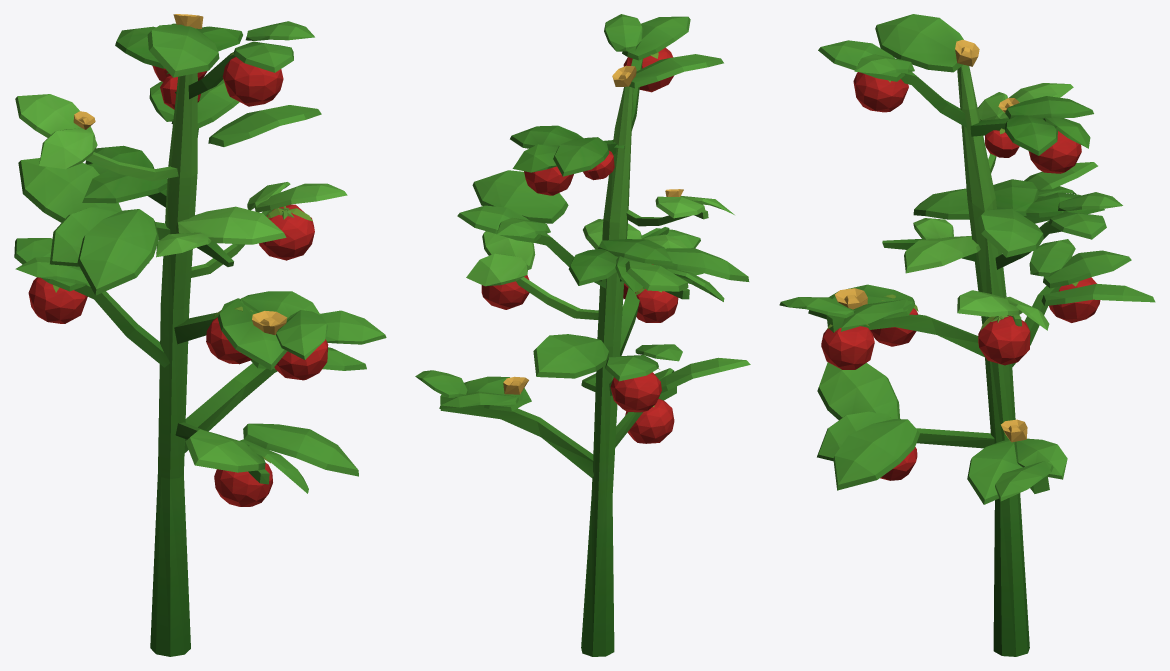
File: crop_tomato_stage3.glb
3 views of the same model, side by side, from view 1: azimuth 30°, elevation 25°; view 2: azimuth 150°, elevation 25°; view 3: azimuth 270°, elevation 25° (orthographic). The views are drawn at different scales.
Visible parts, largest first — view 1: crop_tomato_stage3; view 2: crop_tomato_stage3; view 3: crop_tomato_stage3.
Part boxes in pixels (x1=…): crop_tomato_stage3: x1=14, y1=14, x2=386, y2=656; crop_tomato_stage3: x1=415, y1=14, x2=750, y2=656; crop_tomato_stage3: x1=779, y1=14, x2=1155, y2=656.
Size of the model in its own units: 0.5584 by 1 by 0.559.
Materials: 1 (1 with a texture image).
